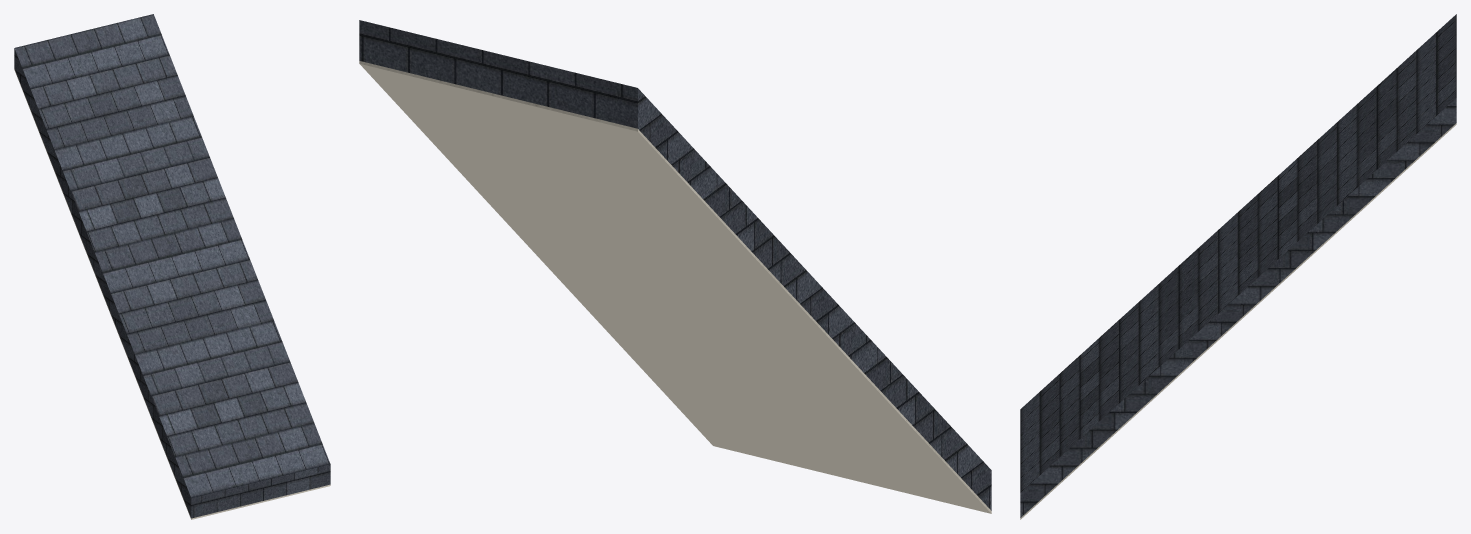
The model's file is roof_slope.glb.
3 renders of one model, left to right at view 1: azimuth 30°, elevation 25°; view 2: azimuth 150°, elevation 25°; view 3: azimuth 270°, elevation 25°, orthographic. The views are drawn at different scales.
Visible parts, largest first — view 1: roof_slope_shingle, roof_slope_plaster; view 2: roof_slope_plaster, roof_slope_shingle; view 3: roof_slope_shingle, roof_slope_plaster.
Part boxes in pixels (<box>): roof_slope_shingle: <box>14,14,330,518</box>; roof_slope_plaster: <box>14,69,330,519</box>; roof_slope_plaster: <box>359,61,991,513</box>; roof_slope_shingle: <box>359,20,991,510</box>; roof_slope_shingle: <box>1020,14,1456,517</box>; roof_slope_plaster: <box>1020,123,1456,519</box>.
Bounding box in the file's own units: 2 × 4.7 × 4.4.
Materials: 2 (2 with a texture image).
